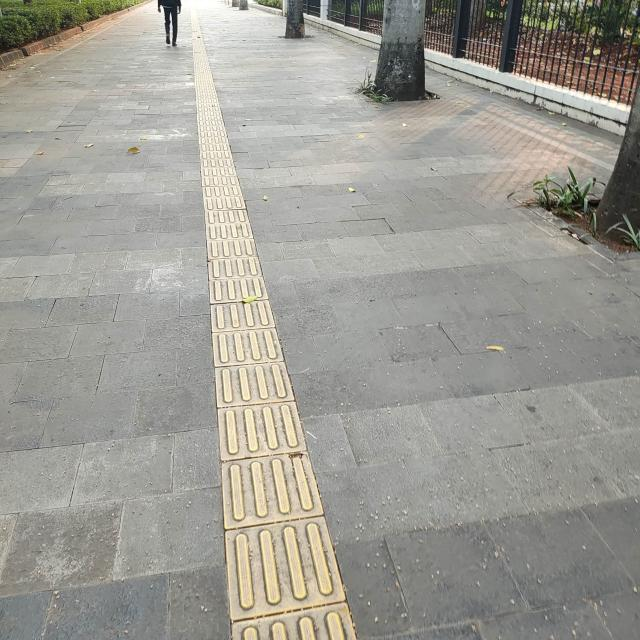lurus: (194, 102, 329, 640)
